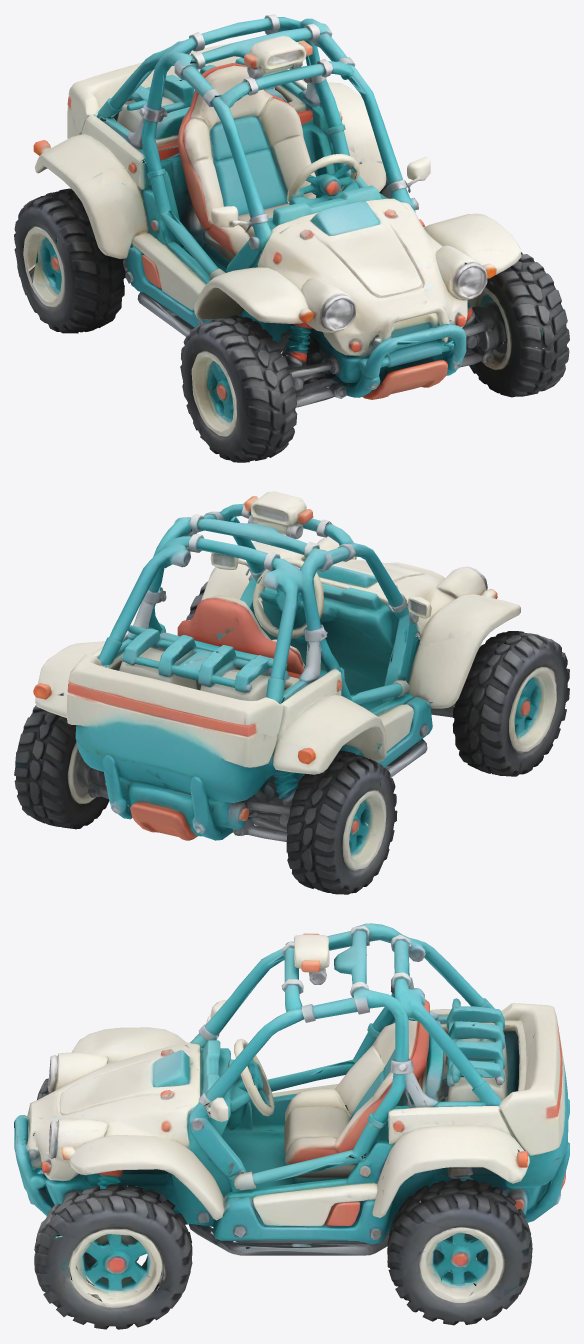
File: reef.glb
3 renders of one model, top to bottom at view 1: azimuth 30°, elevation 25°; view 2: azimuth 150°, elevation 25°; view 3: azimuth 270°, elevation 25°, orthographic. The views are drawn at different scales.
Visible parts, largest first — view 1: model; view 2: model; view 3: model.
Part boxes in pixels (x1,y1,x2,y2): model: [14, 14, 569, 462]; model: [14, 491, 569, 894]; model: [14, 923, 569, 1329].
Bounding box in the file's own units: 1.31 × 1.19 × 1.9.
1 material, 1 textured.
